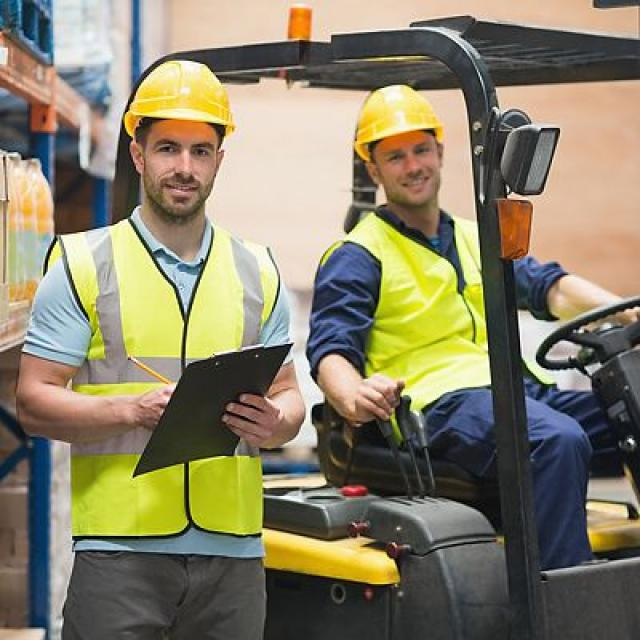Reflective-Jacket: (51, 218, 283, 547), (318, 206, 517, 421)
Safety-Helmet: (120, 54, 242, 140), (346, 78, 451, 158)
